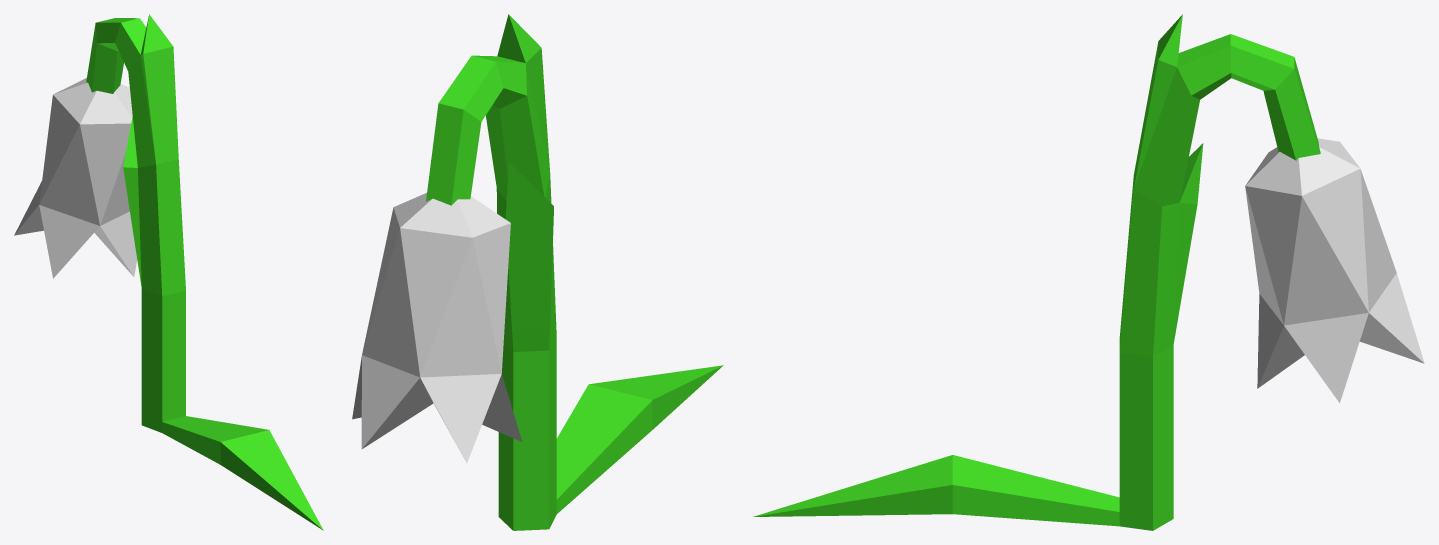
The model's file is flower-3.fbx.
3 views of the same model, side by side, from view 1: azimuth 30°, elevation 25°; view 2: azimuth 150°, elevation 25°; view 3: azimuth 270°, elevation 25° (orthographic). The views are drawn at different scales.
Parts seen in each view (by area): view 1: Flower; view 2: Flower; view 3: Flower.
Part boxes in pixels (bbox=[...]): Flower: bbox=[14, 14, 323, 530]; Flower: bbox=[352, 14, 723, 530]; Flower: bbox=[753, 14, 1424, 530].
Size of the model in its own units: 16.45 by 56.3 by 67.95.
